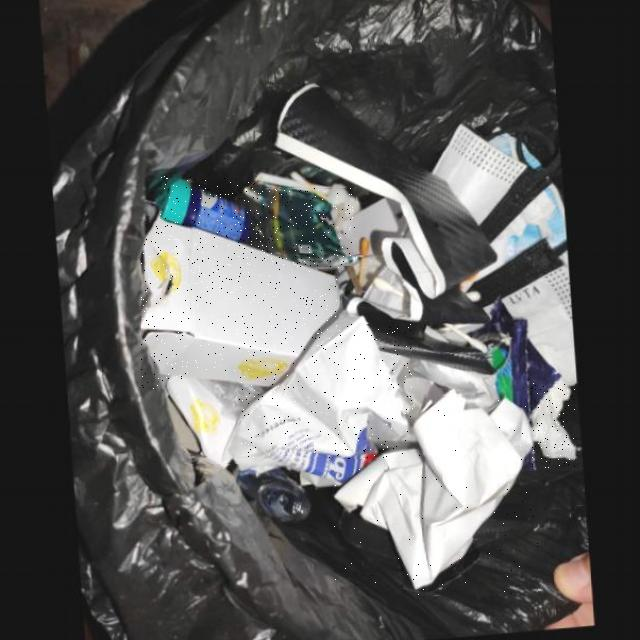paper: (335, 396, 538, 596), (141, 221, 341, 388), (239, 324, 412, 459), (166, 379, 270, 464), (246, 188, 356, 265), (531, 383, 575, 468)
plastic: (161, 176, 257, 248)
